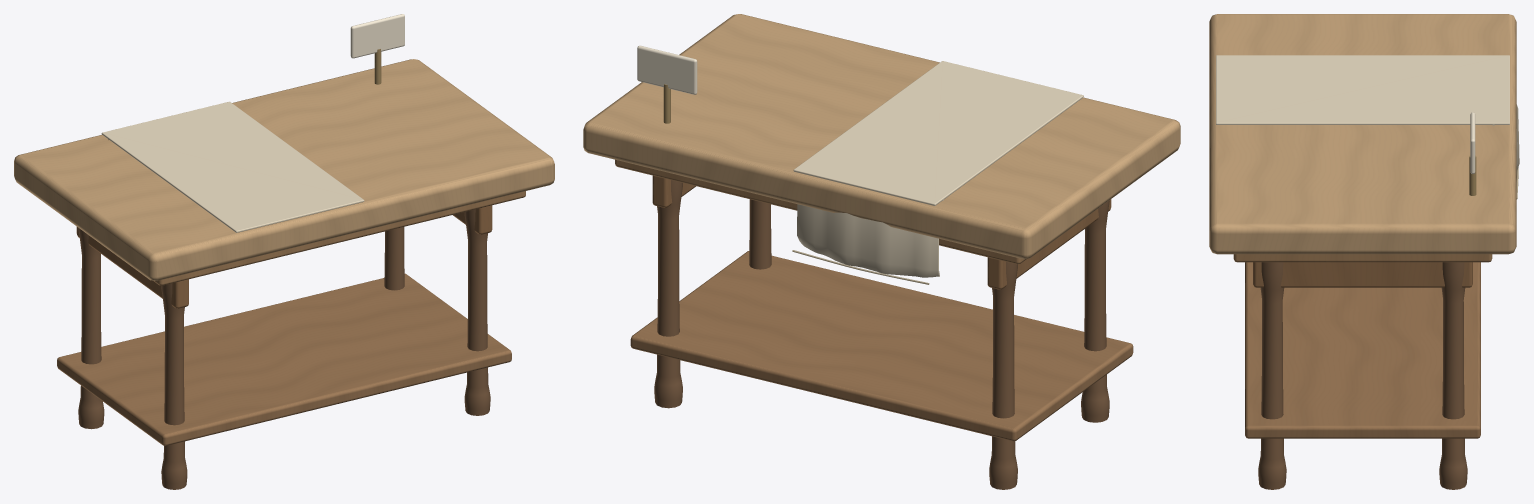
Rendered from display-2.glb.
The picture shows the model from 3 angles, left to right: view 1: azimuth 30°, elevation 25°; view 2: azimuth 150°, elevation 25°; view 3: azimuth 270°, elevation 25°; orthographic projection. The views are drawn at different scales.
Visible parts, largest first — view 1: display-2; view 2: display-2; view 3: display-2.
Part boxes in pixels (left/top/right/bottom): display-2: left=14, top=14, right=554, bottom=489; display-2: left=583, top=14, right=1180, bottom=489; display-2: left=1209, top=14, right=1519, bottom=489.
Size of the model in its own units: 1.58 by 1.21 by 0.9596.
Materials: 9 (7 with a texture image).
